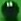black: (0, 0, 21, 21)
